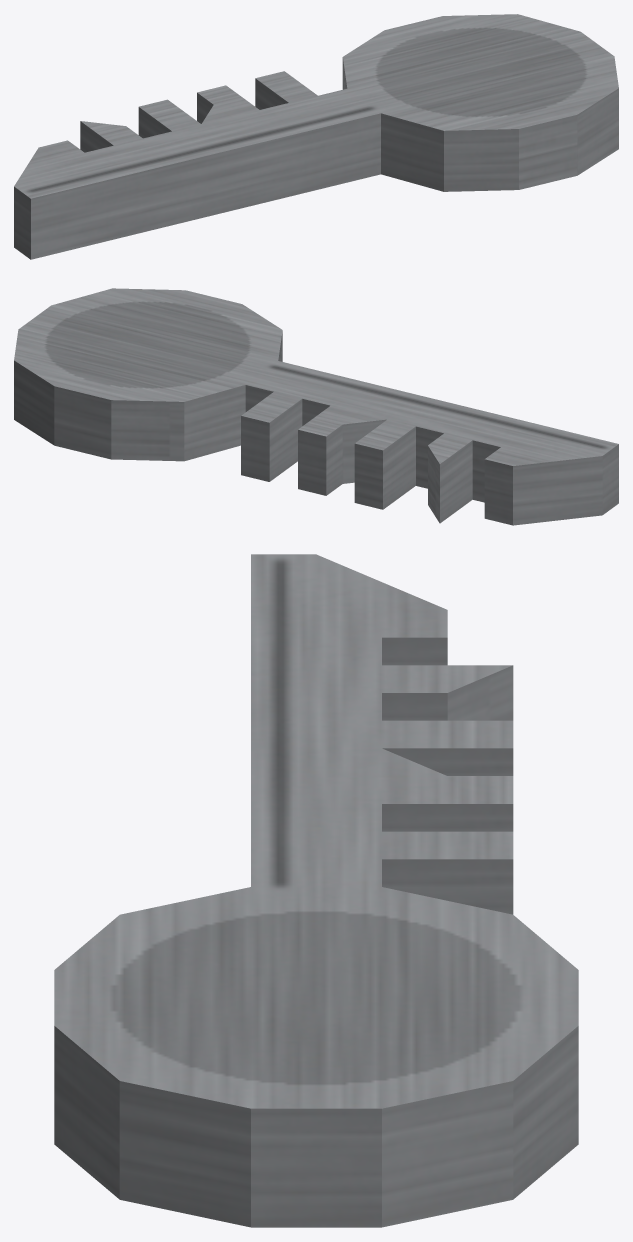
Rendered from Kitchen Key.fbx.
3 views of the same model, one above another, from view 1: azimuth 30°, elevation 25°; view 2: azimuth 150°, elevation 25°; view 3: azimuth 270°, elevation 25° (orthographic). The views are drawn at different scales.
Visible parts, largest first — view 1: Kitchen_Key; view 2: Kitchen_Key; view 3: Kitchen_Key.
Boxes of the visible parts, x1,y1,x2,y2 form: Kitchen_Key: (14,14,618,259); Kitchen_Key: (14,288,618,525); Kitchen_Key: (54,554,578,1227).
Bounding box in the file's own units: 100 × 10 × 40.
Materials: 1 (1 with a texture image).
